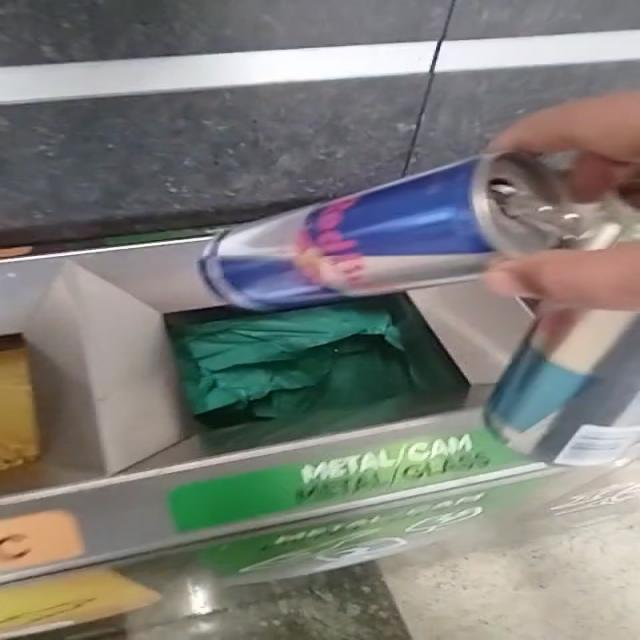Bin: (1, 239, 529, 565)
Metal: (201, 153, 636, 310)
